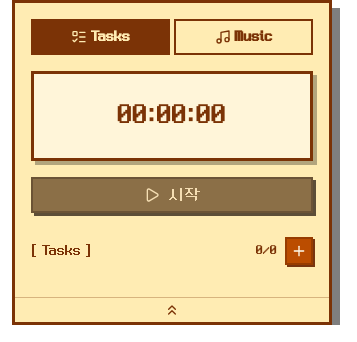
Test: FocusPanel › 접힌 상태에서 펼치기 버튼 클릭 시 패널이 펼쳐진다
Click the button named "패널 접기".
click(172, 310)  # box [15,297,329,322]
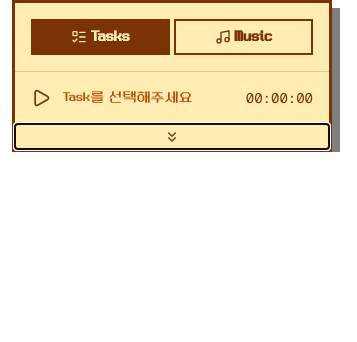
Click the button named "패널 펼치기".
click(172, 136)  # box [15,124,329,149]
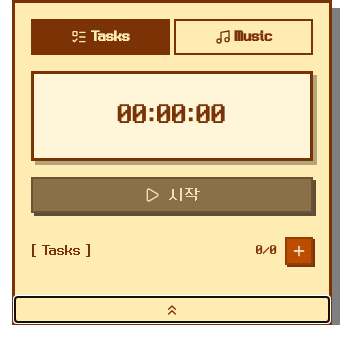
Result: the button named "패널 접기" is shown at [15,297,329,322]
